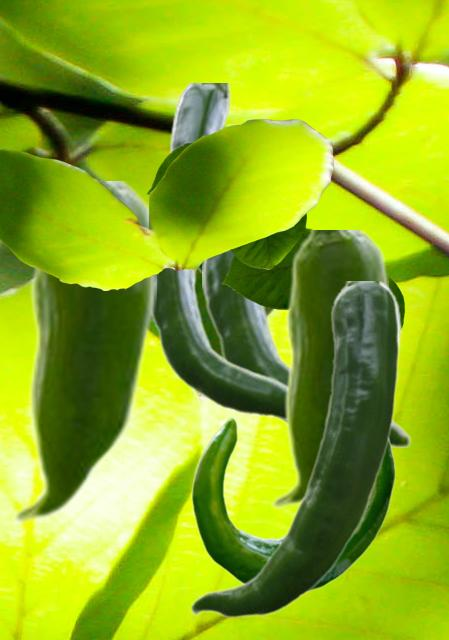green_chili: (189, 281, 401, 618), (10, 181, 155, 524), (202, 251, 411, 446), (191, 414, 395, 592), (146, 176, 285, 423), (269, 230, 387, 509), (169, 83, 281, 310)
